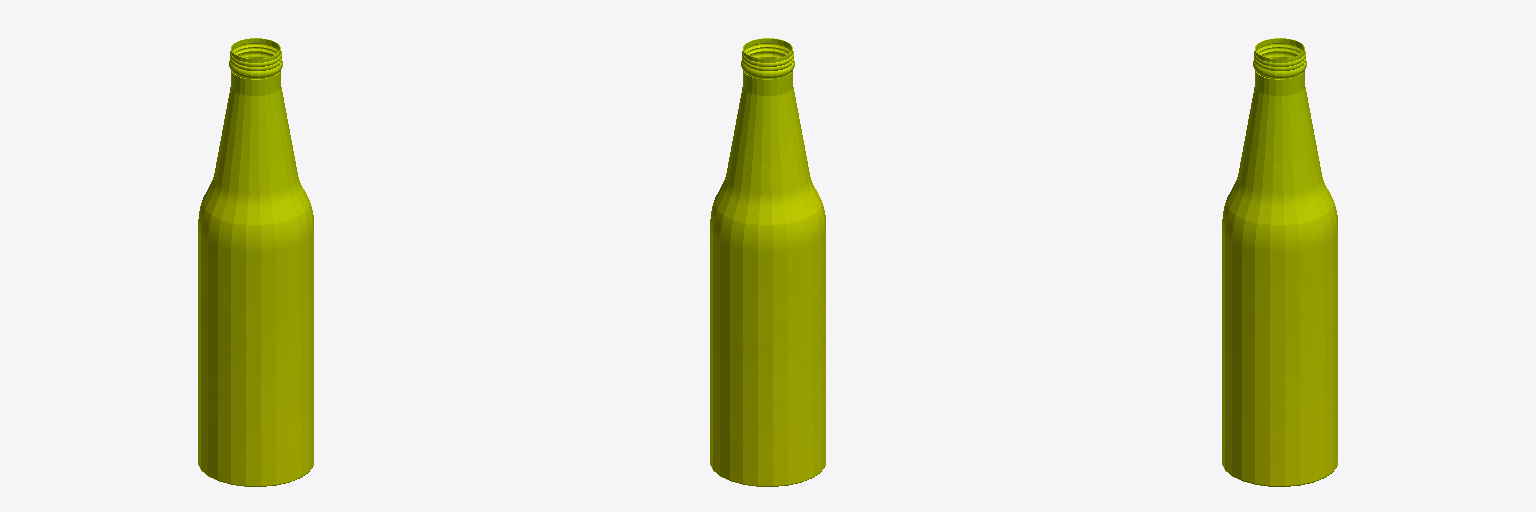
The picture shows the model from 3 angles: view 1: azimuth 30°, elevation 25°; view 2: azimuth 150°, elevation 25°; view 3: azimuth 270°, elevation 25°; orthographic projection.
Visible parts, largest first — view 1: mesh1_mesh1-geometry; view 2: mesh1_mesh1-geometry; view 3: mesh1_mesh1-geometry.
Boxes of the visible parts, x1,y1,x2,y2 form: mesh1_mesh1-geometry: [198, 38, 313, 486]; mesh1_mesh1-geometry: [710, 38, 825, 486]; mesh1_mesh1-geometry: [1222, 38, 1337, 486].
Bounding box in the file's own units: 0.2396 × 0.9408 × 0.2396.
Materials: 1 (1 with a texture image).